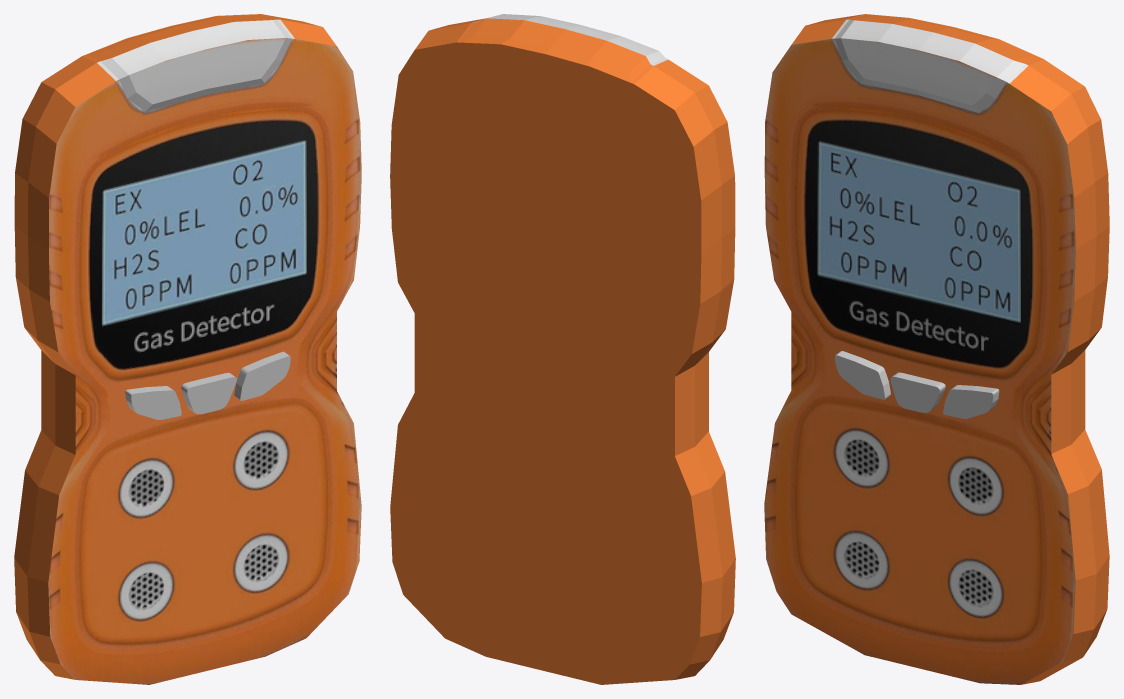
Rendered from GasDetector.obj.
The picture shows the model from 3 angles, left to right: view 1: azimuth 30°, elevation 25°; view 2: azimuth 150°, elevation 25°; view 3: azimuth 330°, elevation 25°; orthographic projection.
Parts seen in each view (by area): view 1: Object_4_0, Object_8_0, Object_6_0, Object_10_0; view 2: Object_4_0; view 3: Object_4_0, Object_10_0, Object_6_0, Object_8_0.
Boxes of the visible parts, box(x1,y1,x2,y2) form: Object_4_0: box(14, 14, 361, 684); Object_8_0: box(234, 351, 290, 400); Object_6_0: box(181, 372, 236, 414); Object_10_0: box(125, 386, 181, 419); Object_4_0: box(390, 14, 735, 684); Object_4_0: box(764, 14, 1109, 684); Object_10_0: box(835, 351, 890, 399); Object_6_0: box(890, 372, 945, 412); Object_8_0: box(943, 385, 999, 418).
Size of the model in its own units: 2.46 by 4.67 by 0.5313.
Materials: 2 (1 with a texture image).
